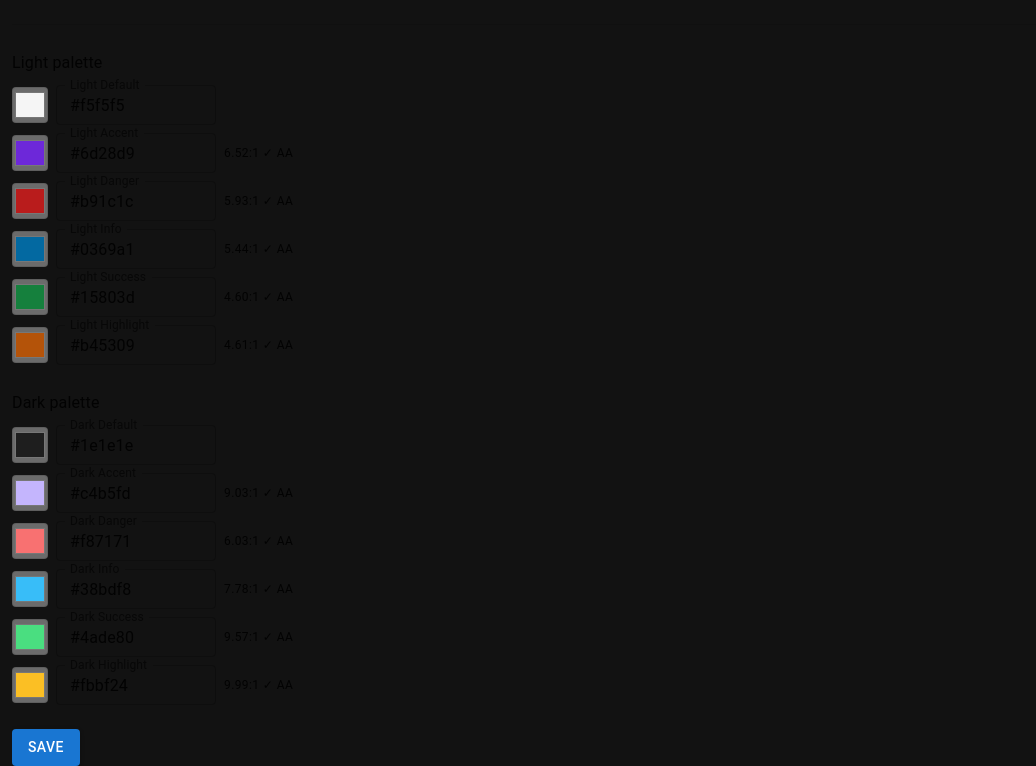
Test: SiteThemeEditor › surfaces the server’s failing-pair message on save error
The width and height of the screenshot is (1036, 766).
(page scrolled)
Click the button "Save" at (46, 748), box x1=12 y1=730 x2=80 y2=765
(page scrolled)
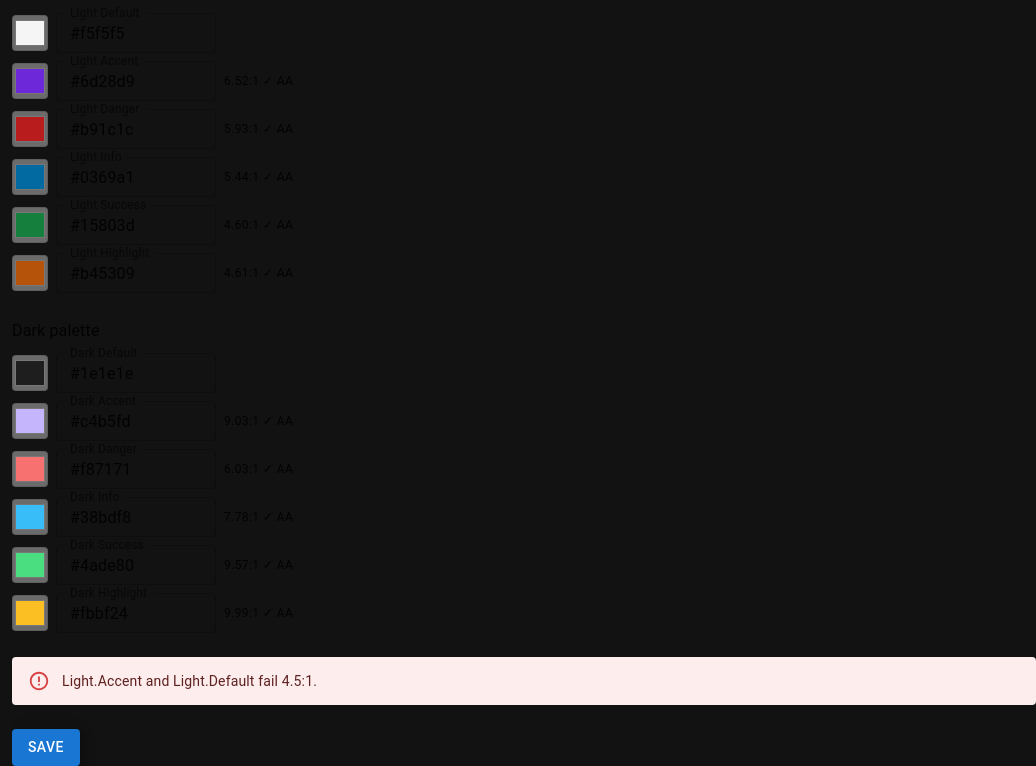
Check: the text "Light.Accent and Light.Default fail 4.5:1." is shown, box x1=62 y1=674 x2=317 y2=690
